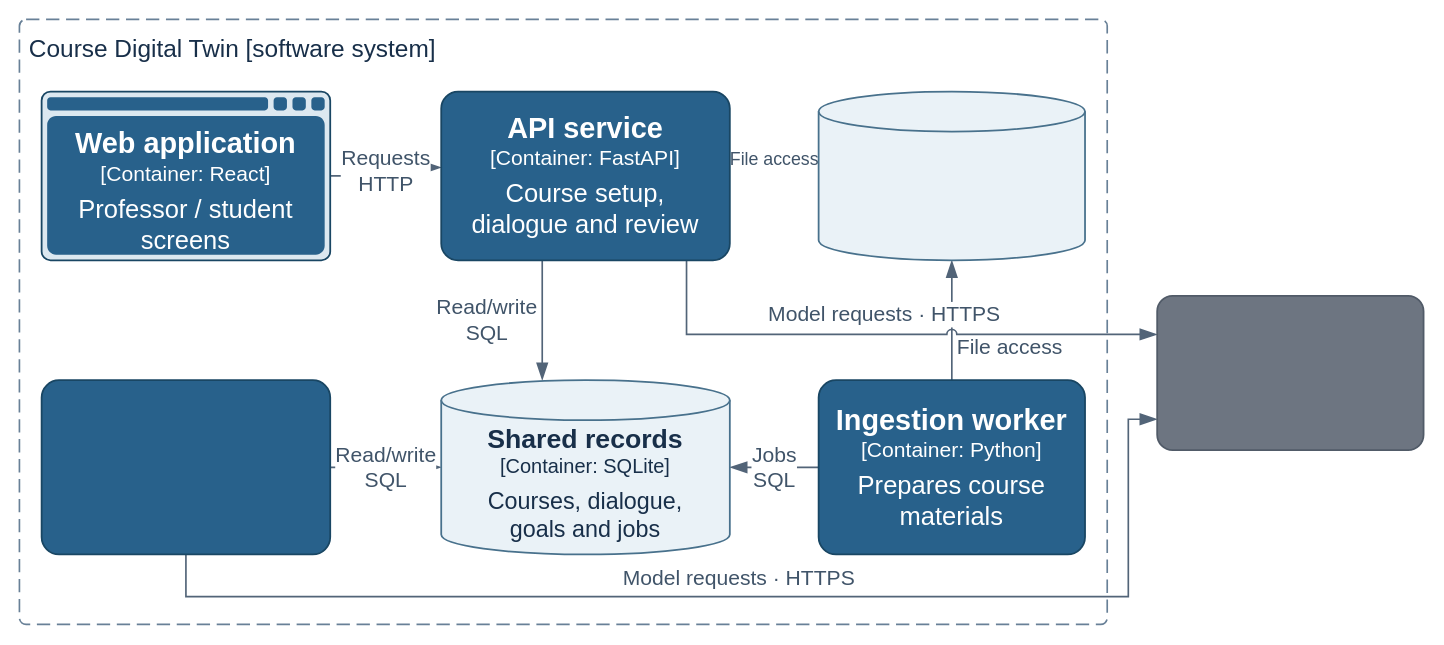
The diagram is 1444 pixels wide and 645 high, and some of its shapes have lost their labels. Each missing label, with the centre of its shape:
Course files [Container: File system] Source files and processed content: (x=951, y=175)
OpenAI API [External system] Plans or generates support: (x=1290, y=372)
Support worker [Container: Python] Checks activity; runs support jobs: (x=185, y=467)
